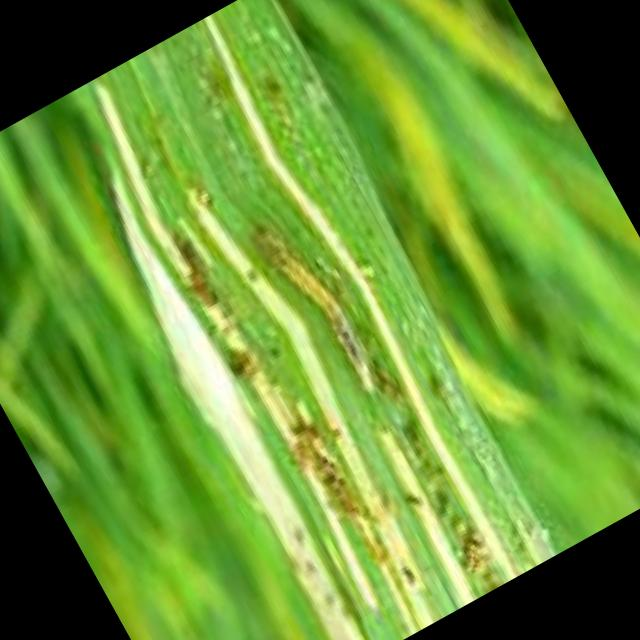leaf-folder: (225, 180, 412, 428)
